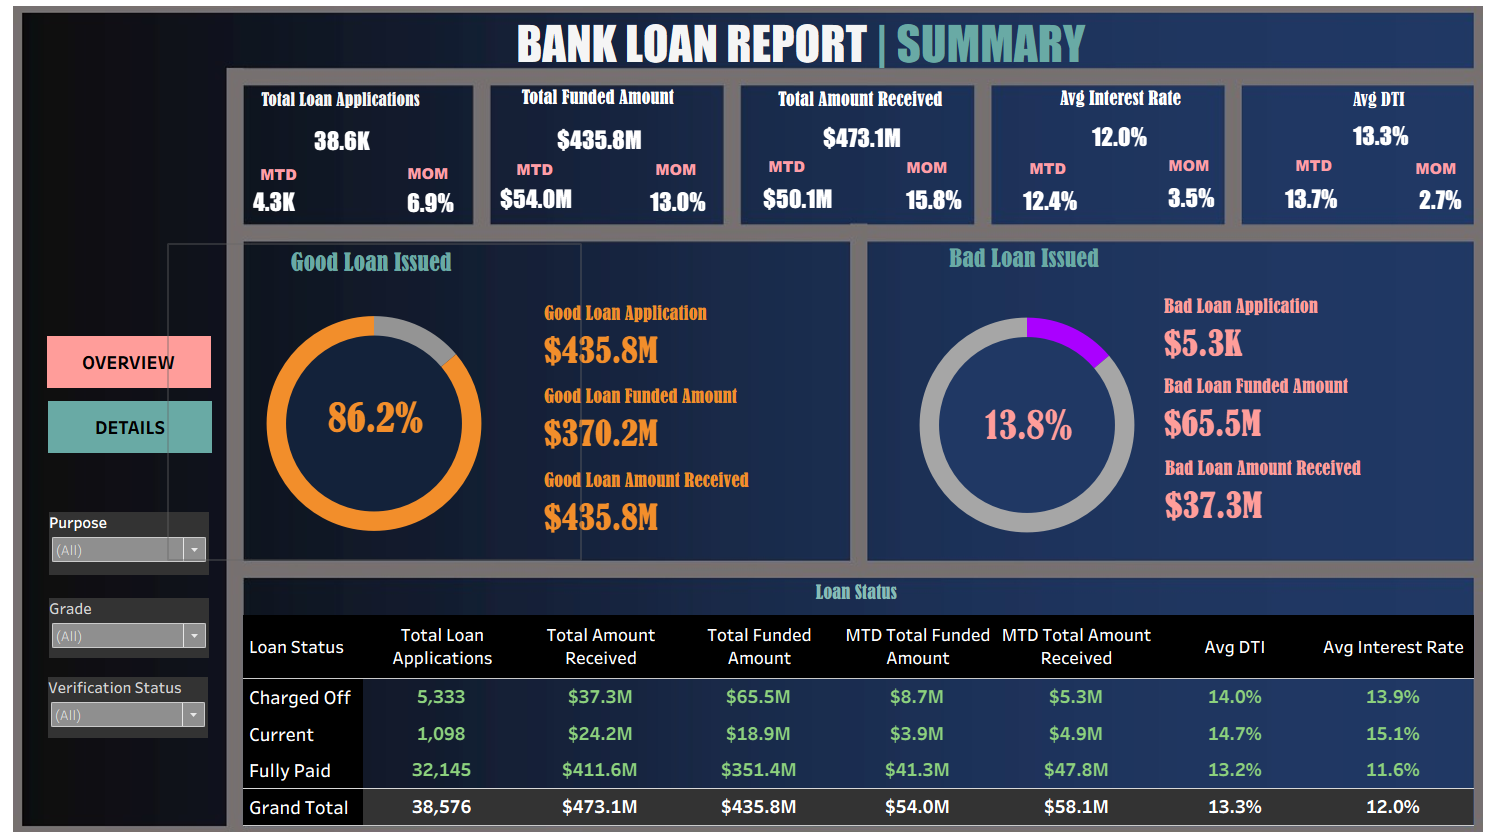

This screenshot's page, from the dashboard's own definition file:
{"tool":"tableau","page":{"name":"SUMMARY","canvas":[1000,1000],"units":"permille","ordinal":2},"visuals":[{"type":"image","param":"C:/Users/Dell/OneDrive/Desktop/Bank Loan Project End to End/Tableau Background 1","box":[4.8,9.4,990.3,981.2]},{"type":"text","box":[358,28.2,370.5,59.9]},{"type":"worksheet","title":"Total Funded Amount ","mark":"Automatic","box":[337.9,104.6,144.8,92.8]},{"type":"worksheet","title":"Avg Interest Rate","mark":"Automatic","box":[651.4,105.8,146.7,82.3]},{"type":"worksheet","title":"Total Amount Received ","mark":"Automatic","box":[494.7,106.9,148,82.3]},{"type":"worksheet","title":"Avg DTI ","mark":"Automatic","box":[809.4,106.9,144.8,77.6]},{"type":"worksheet","title":"Total Loan Applications ","mark":"Automatic","box":[183.7,108.1,143,88.1]},{"type":"text","box":[751.4,183.3,32.6,35.2]},{"type":"text","box":[828.2,183.3,30.7,35.2]},{"type":"text","box":[509.7,184.5,32.6,35.2]},{"type":"text","box":[593.1,185.7,33.2,35.2]},{"type":"text","box":[667.5,186.8,29,35.2]},{"type":"text","box":[900.4,186.8,29.6,35.2]},{"type":"text","box":[358,188,34.5,35.2]},{"type":"text","box":[442,188,33.9,35.2]},{"type":"text","box":[196.7,192.7,39.2,38.8]},{"type":"text","box":[292.2,192.7,32.6,35.2]},{"type":"worksheet","title":"MoM Avg  DTI ","mark":"Automatic","box":[888.4,200.9,58.5,84.6]},{"type":"worksheet","title":"MOM Total Loan Application","mark":"Automatic","box":[284.6,205.6,47,81.1]},{"type":"worksheet","title":"MTD Avg  DTI","mark":"Automatic","box":[810,205.6,59.6,71.7]},{"type":"worksheet","title":"MoM Avg INT Rate ","mark":"Automatic","box":[746.5,206.8,42.2,67]},{"type":"worksheet","title":"MTD Total Amount Received ","mark":"Automatic","box":[495.3,211.5,69.6,59.9]},{"type":"worksheet","title":"MTD Total Funded Amount ","mark":"Automatic","box":[337.9,212.7,68.3,58.8]},{"type":"worksheet","title":"MTD Avg INT Rate ","mark":"Automatic","box":[650.2,213.9,64.6,61.1]},{"type":"worksheet","title":"MOM Total Amount Received","mark":"Automatic","box":[582.5,215,58.9,56.4]},{"type":"worksheet","title":"MTD Total Loan Applications","mark":"Automatic","box":[188.9,218.6,50.7,52.9]},{"type":"worksheet","title":"MOM Total Funded Amount","mark":"Automatic","box":[429.5,219.7,55.8,51.7]},{"type":"worksheet","title":"Bad Loan issued ","mark":"Pie","rows":["Calculation_1078943354224673","Calculation_1078943354224673"],"box":[573.7,290.2,188.1,381.9]},{"type":"worksheet","title":"Good Loan issued ","mark":"Pie","rows":["Calculation_1078943354224673","Calculation_1078943354224673"],"box":[150.5,294.9,247.7,369]},{"type":"worksheet","title":"Bad Loan Application ","mark":"Automatic","box":[745.9,345.5,181.1,88.1]},{"type":"worksheet","title":"Good Loan Application ","mark":"Automatic","box":[371.8,353.7,188.1,88.1]},{"type":"dashboard-object","box":[76.6,401.9,99,61.1]},{"type":"worksheet","title":"Bad Loan%","mark":"Automatic","box":[620.1,427.7,99.1,141]},{"type":"worksheet","title":"Bad Loan Funded Amount ","mark":"Automatic","box":[745.9,439.5,181.1,88.1]},{"type":"worksheet","title":"Good Loan Application %","mark":"Automatic","box":[233.9,450.1,82.1,98.7]},{"type":"worksheet","title":"Good Loan Funded Amount ","mark":"Automatic","box":[371.8,451.2,188.1,88.1]},{"type":"dashboard-object","box":[77.2,478.3,99,61.1]},{"type":"worksheet","title":"Bad Loan Amount Received","mark":"Automatic","box":[746.5,535.8,181.1,88.1]},{"type":"worksheet","title":"Good Loan Amount Received ","mark":"Automatic","box":[371.8,549.9,188.1,88.1]},{"type":"filter","title":"Good Loan issued ","param":"[federated.1vh7bvv0fgq3lf1e7kuf3095420h].[none:purpose:nk]","box":[77.9,608.7,96.6,74]},{"type":"worksheet","title":"Loan Status ","mark":"Automatic","rows":["loan_status"],"box":[194.9,686.2,742.9,291.4]},{"type":"filter","title":"Good Loan issued ","param":"[federated.1vh7bvv0fgq3lf1e7kuf3095420h].[none:grade:nk]","box":[77.9,709.8,96.6,70.5]},{"type":"filter","title":"Good Loan issued ","param":"[federated.1vh7bvv0fgq3lf1e7kuf3095420h].[none:verification_status:nk]","box":[77.2,802.6,96.6,71.7]}]}

Visuals, with their boxes on the dashboard's canvas, which has no fixed pixel size, in thousandths of its width and height (x1, y1, x2, y2). These are canvas units, not pixel positions in the 1505x832 screenshot, which may show the page scaled, cropped or inside an application window:
image: 5 9 995 991
text: 358 28 728 88
"Total Funded Amount " worksheet: 338 105 483 197
"Avg Interest Rate" worksheet: 651 106 798 188
"Total Amount Received " worksheet: 495 107 643 189
"Avg DTI " worksheet: 809 107 954 184
"Total Loan Applications " worksheet: 184 108 327 196
text: 751 183 784 218
text: 828 183 859 218
text: 510 184 542 220
text: 593 186 626 221
text: 668 187 696 222
text: 900 187 930 222
text: 358 188 392 223
text: 442 188 476 223
text: 197 193 236 232
text: 292 193 325 228
"MoM Avg  DTI " worksheet: 888 201 947 286
"MOM Total Loan Application" worksheet: 285 206 332 287
"MTD Avg  DTI" worksheet: 810 206 870 277
"MoM Avg INT Rate " worksheet: 746 207 789 274
"MTD Total Amount Received " worksheet: 495 212 565 271
"MTD Total Funded Amount " worksheet: 338 213 406 272
"MTD Avg INT Rate " worksheet: 650 214 715 275
"MOM Total Amount Received" worksheet: 582 215 641 271
"MTD Total Loan Applications" worksheet: 189 219 240 272
"MOM Total Funded Amount" worksheet: 430 220 485 271
"Bad Loan issued " worksheet (Pie marks): 574 290 762 672
"Good Loan issued " worksheet (Pie marks): 150 295 398 664
"Bad Loan Application " worksheet: 746 346 927 434
"Good Loan Application " worksheet: 372 354 560 442
dashboard-object: 77 402 176 463
"Bad Loan%" worksheet: 620 428 719 569
"Bad Loan Funded Amount " worksheet: 746 440 927 528
"Good Loan Application %" worksheet: 234 450 316 549
"Good Loan Funded Amount " worksheet: 372 451 560 539
dashboard-object: 77 478 176 539
"Bad Loan Amount Received" worksheet: 746 536 928 624
"Good Loan Amount Received " worksheet: 372 550 560 638
"Good Loan issued " filter: 78 609 174 683
"Loan Status " worksheet: 195 686 938 978
"Good Loan issued " filter: 78 710 174 780
"Good Loan issued " filter: 77 803 174 874
